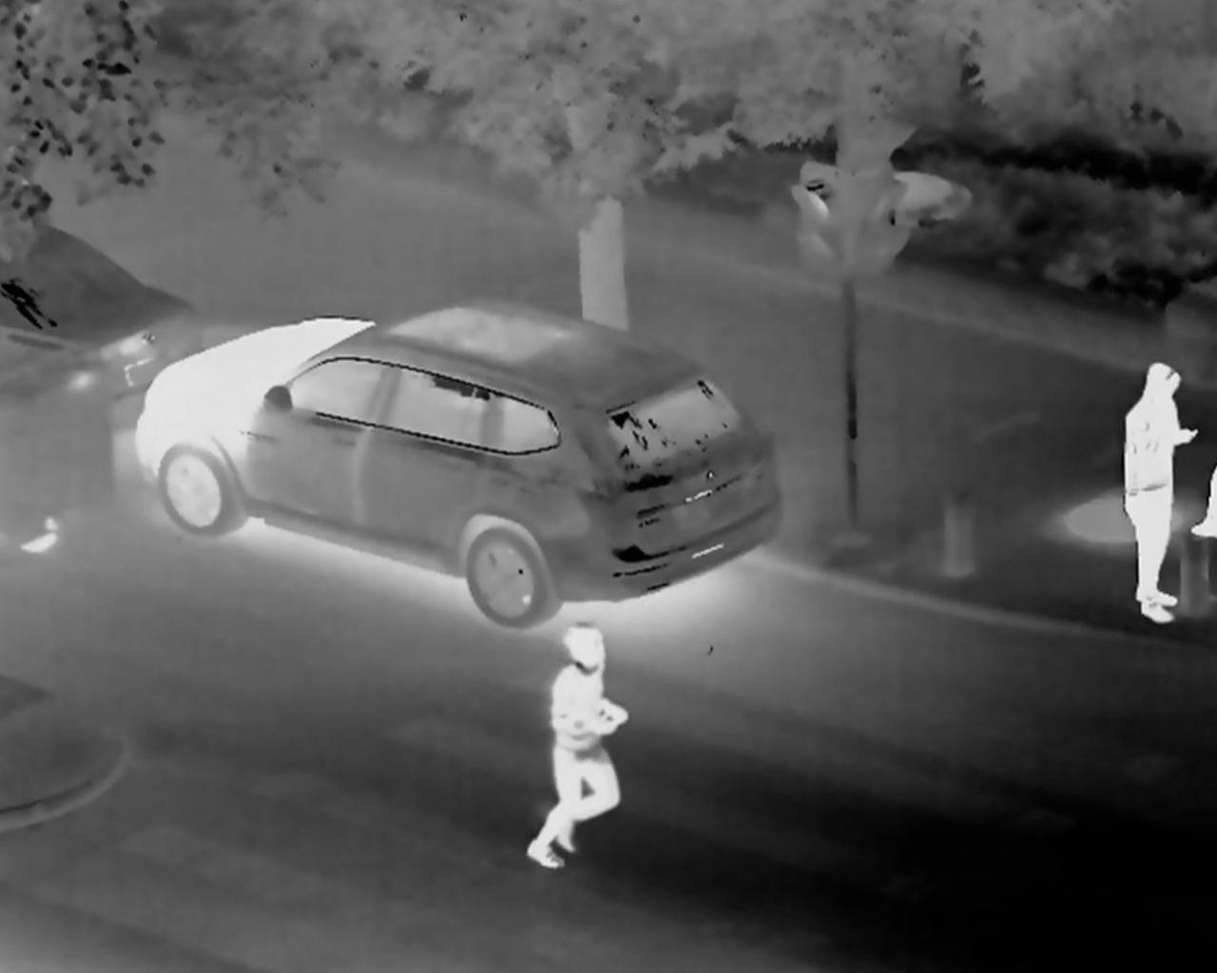person: (525, 620, 628, 869), (1117, 356, 1199, 628)
